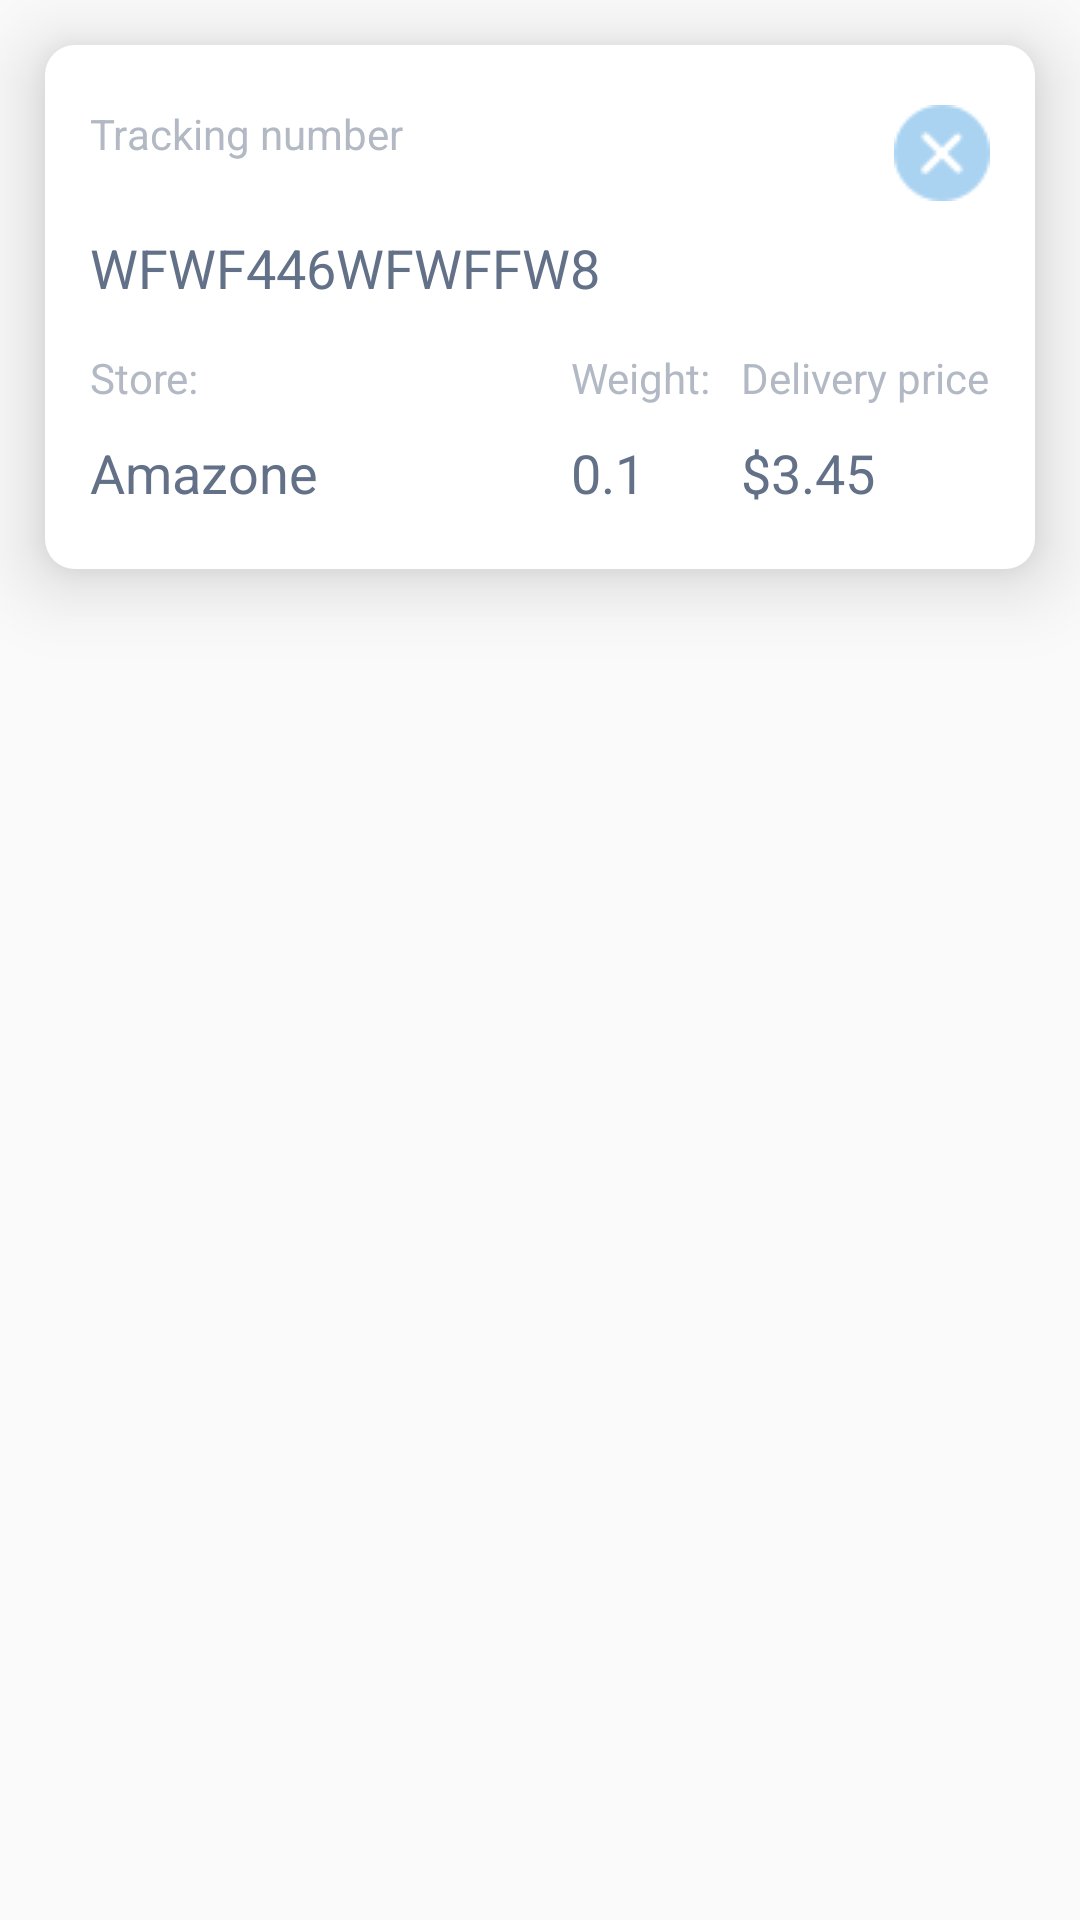

Point at icon controls on the screen. Image size 1080*1920, points as point (x, y).
delete parcel: point (942, 153)
